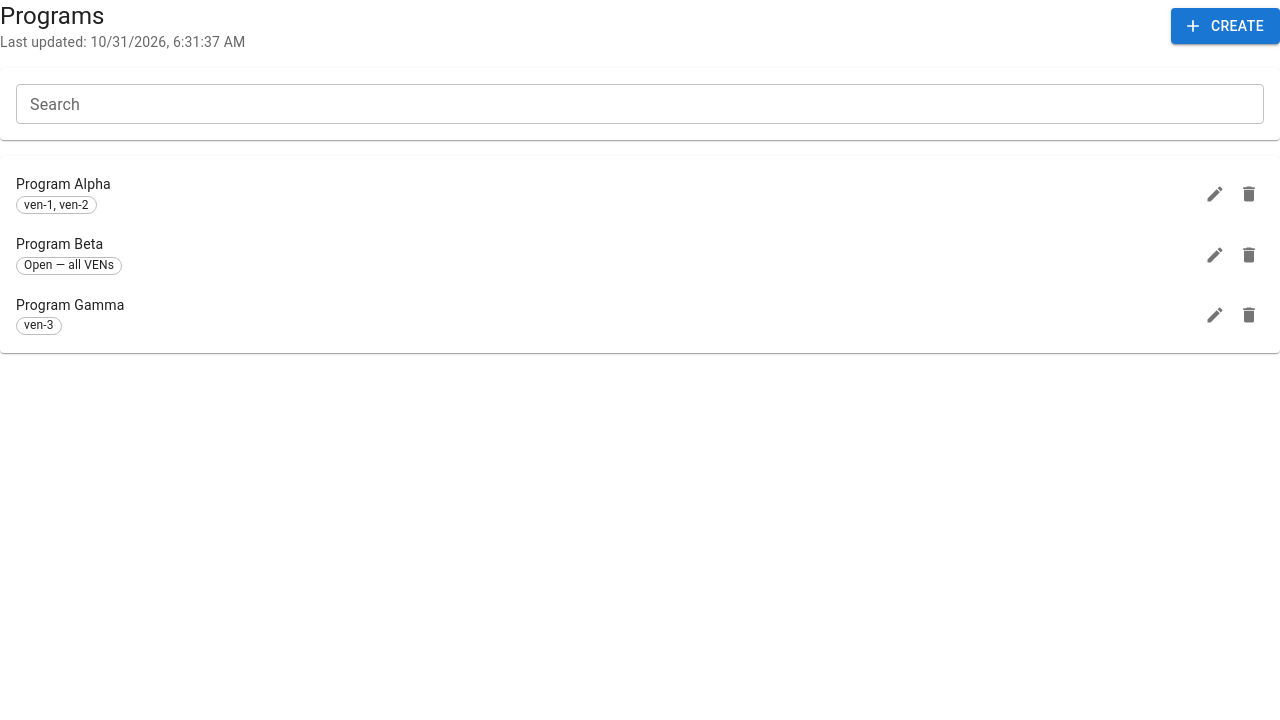
ProgramsPage › opens edit dialog with pre-filled data
Click the button with test id "edit-program-p1".
click(1215, 194)  # box [1200,179,1230,209]
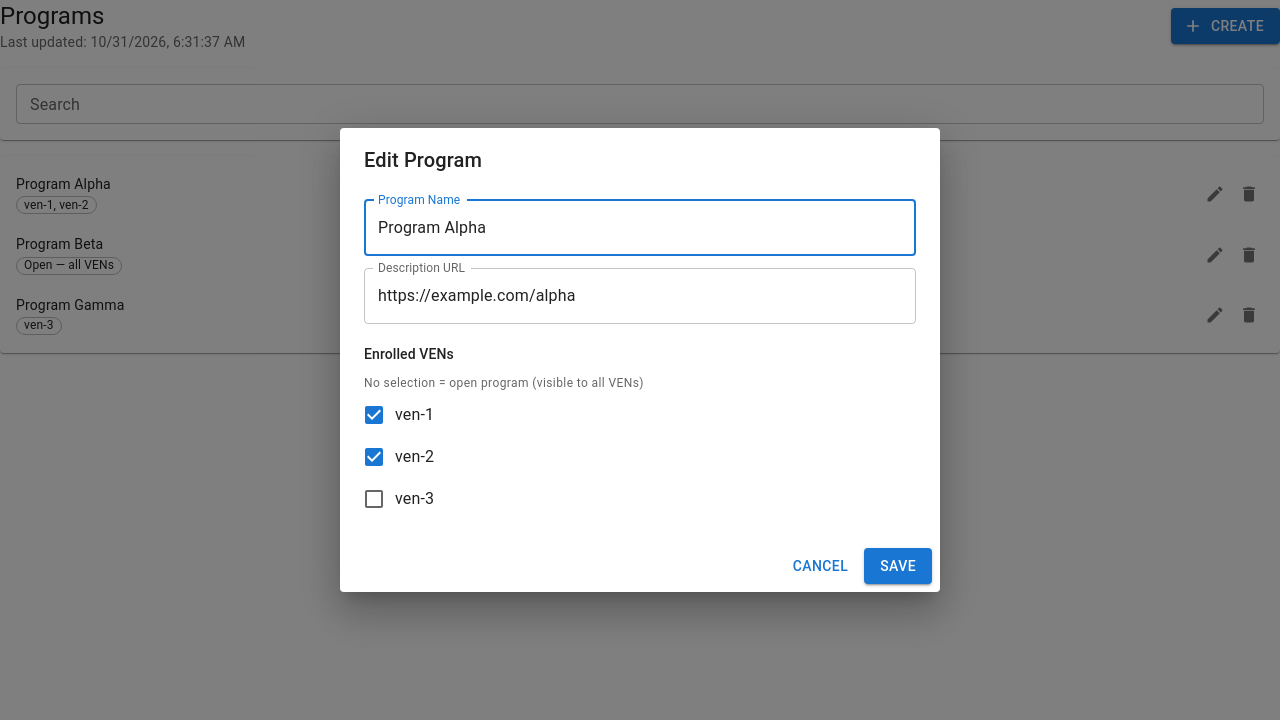
Result: the field with test id "program-name-input" holds "Program Alpha" at [364,200,916,256]
Result: the field with test id "program-description-url-input" holds "https://example.com/alpha" at [364,268,916,324]
Result: the checkbox labelled "ven-1" is checked at [362,403,434,427]
